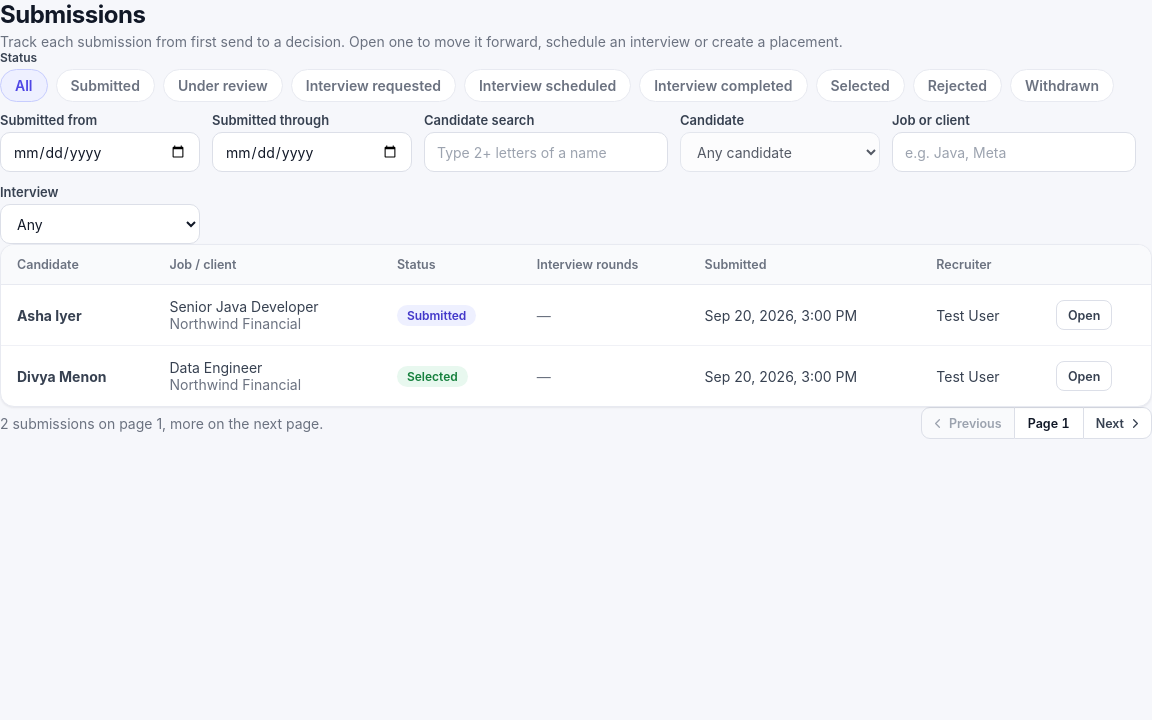
Test: Submission detail › asks for a rejection reason; Escape closes only the prompt
The image size is (1152, 720).
Click the button with aria-label "Open submission of ": (1084, 315) [1056,300,1112,330]
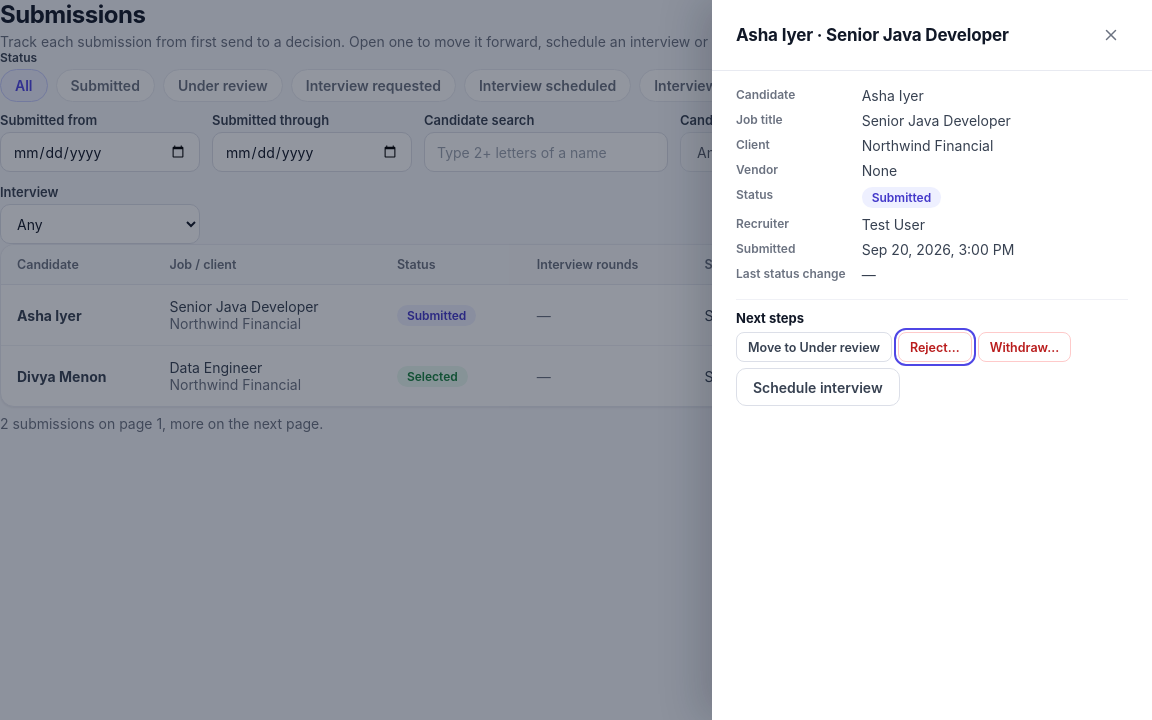
Click the button "Reject…": (935, 347) [898,332,972,362]
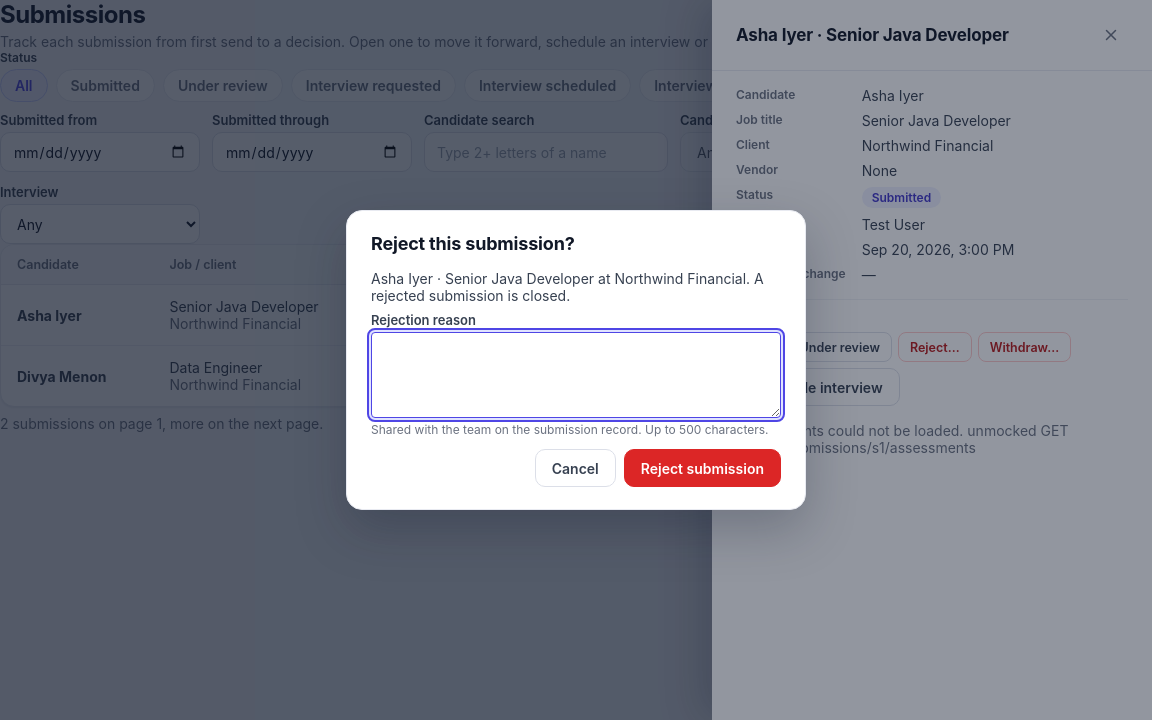
Press Escape
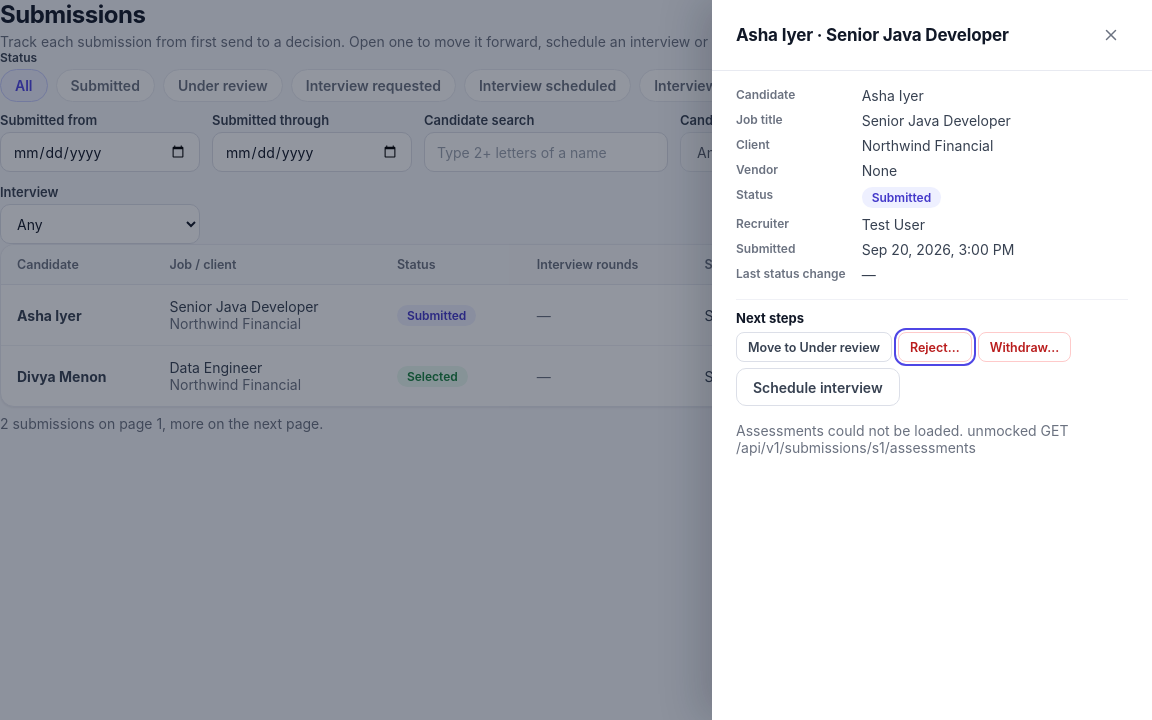
Check: the dialog "Asha Iyer" is shown, box [712,0,1151,719]
Check: the heading "Reject this submission?" is gone
Click the button "Reject…": (935, 347) [898,332,972,362]
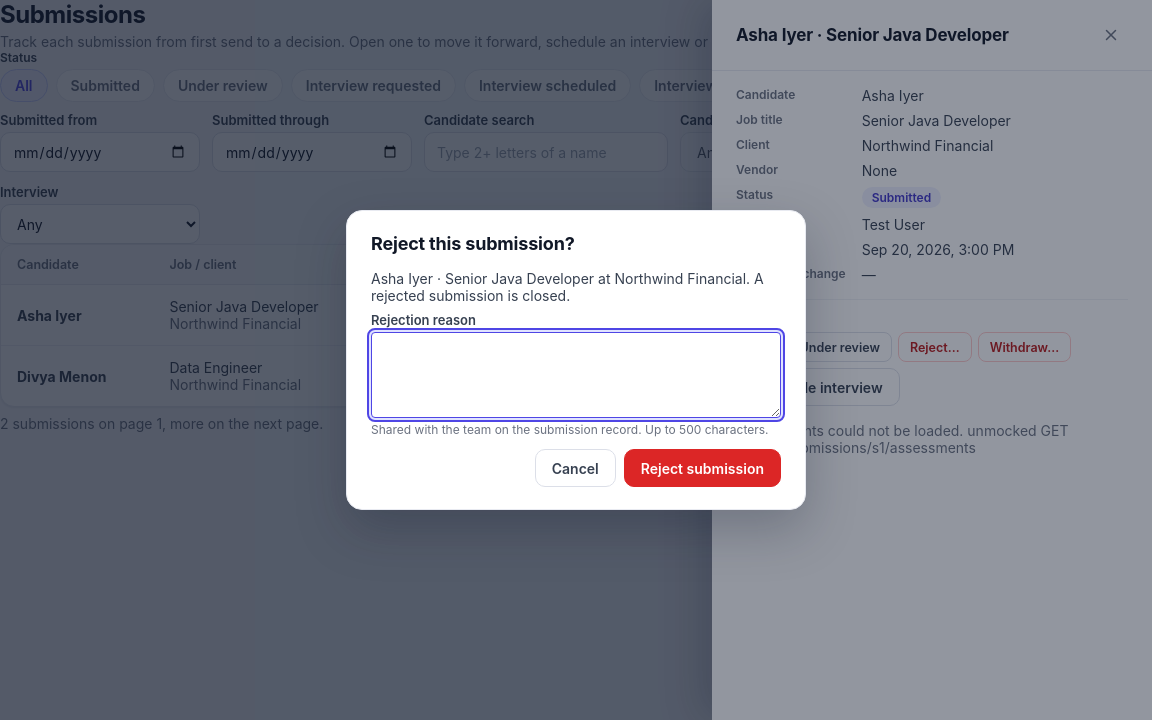
Click the button "Reject submission": (702, 468) [624,449,781,487]
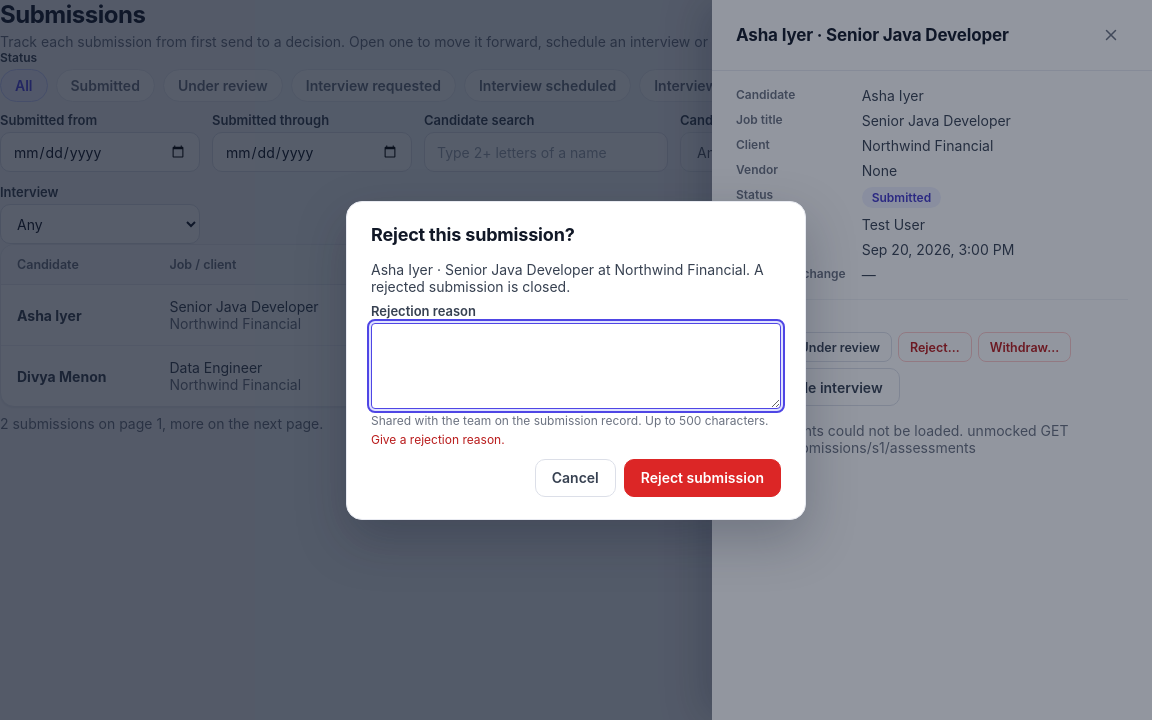
In the text box labelled "Rejection reason": (576, 366) [371,322,781,408], type "  Client chose an internal candidate "
Click the button "Reject submission": (702, 478) [624,458,781,496]
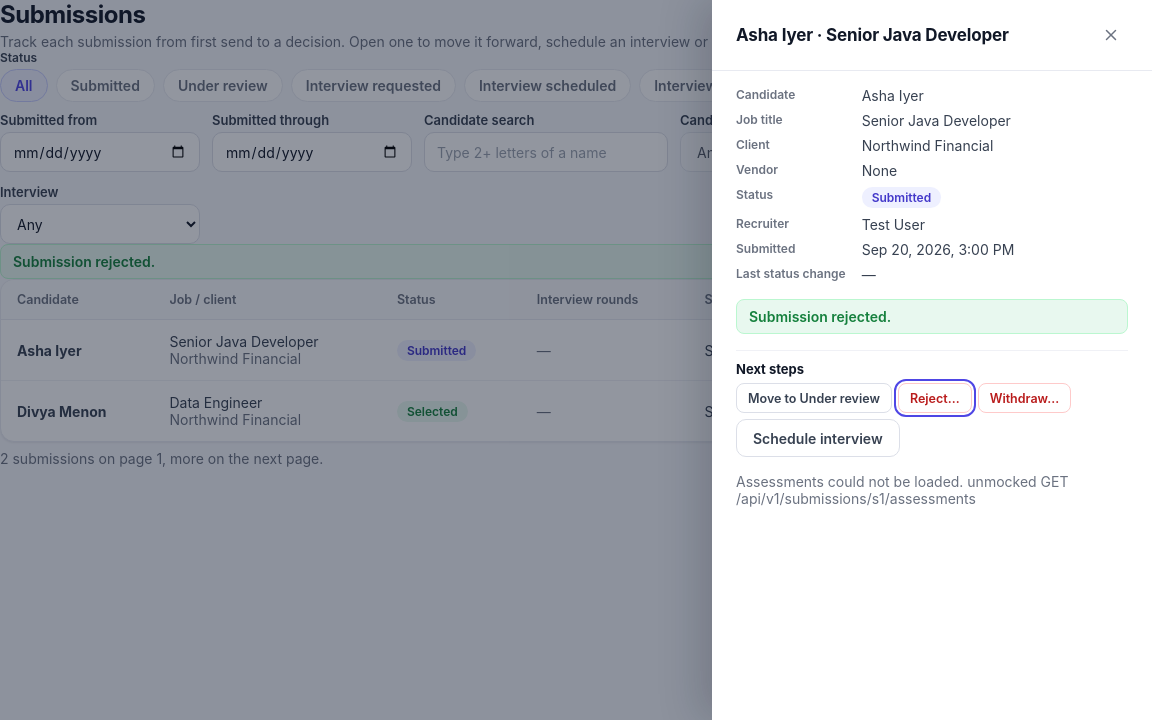
Check: the heading "Reject this submission?" is gone
Check: the message "Submission rejected." below "Last status change" is shown, box [749,308,891,325]
